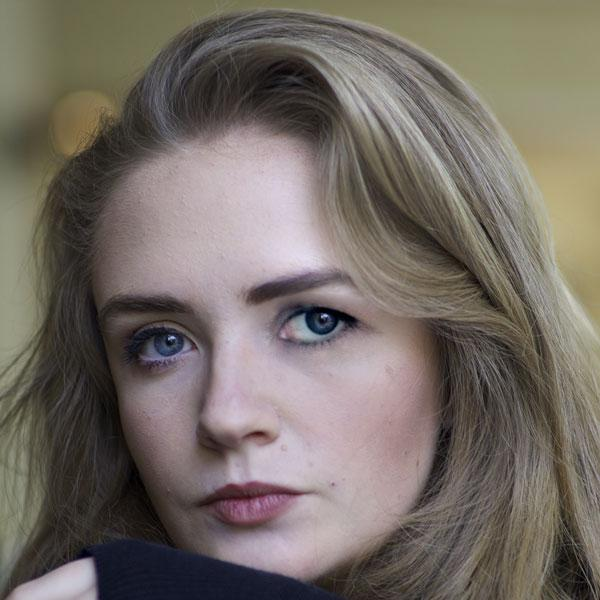Eyes: (259, 289, 371, 361), (118, 312, 207, 384)
